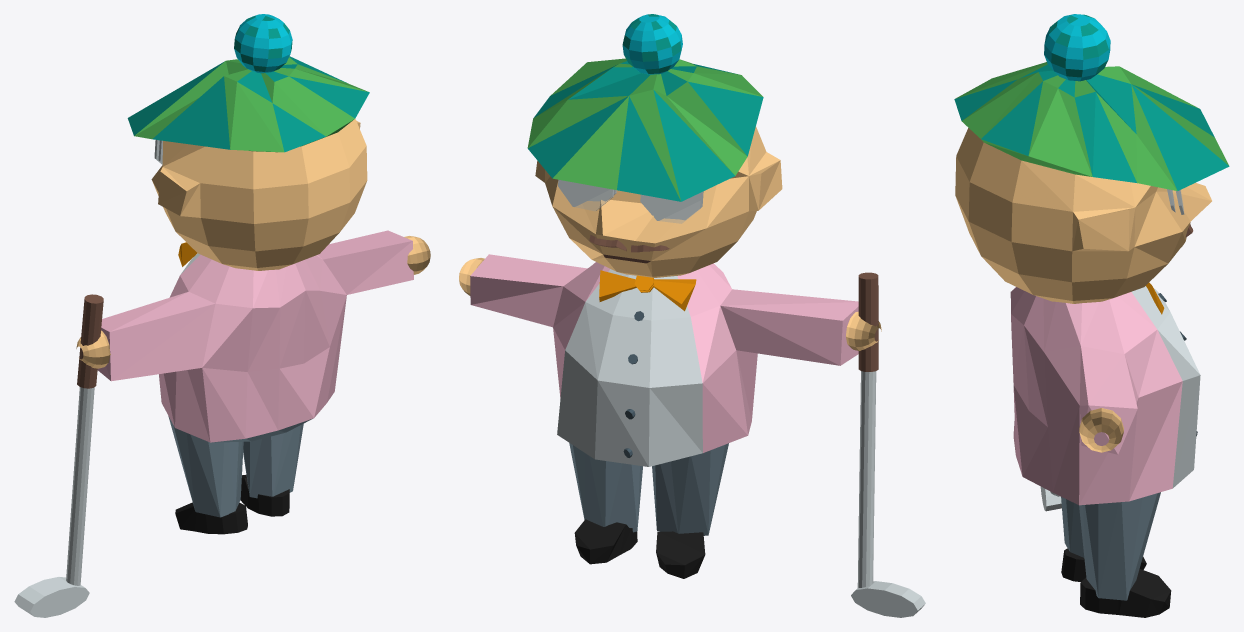
Rendered from scene_6GF6BtmcLV.glb.
3 views of the same model, side by side, from view 1: azimuth 30°, elevation 25°; view 2: azimuth 150°, elevation 25°; view 3: azimuth 270°, elevation 25° (orthographic). The views are drawn at different scales.
Parts seen in each view (by area): view 1: group190844436, group446509500, group1160583200, group442862538, group1689992538, group734745057, group1447891232, group1092781663, group1006151991, group872511750, group1239471568, group1744755058; view 2: group446509500, group190844436, group1160583200, group442862538, group1689992538, group734745057, group872511750, group1092781663, group1447891232, group1006151991, group711177490, group1901949576 (+3 smaller); view 3: group190844436, group446509500, group442862538, group734745057, group872511750, group1744755058, group1160583200, group1092781663.
Part boxes in pixels (x1,y1,x2,y2): group190844436: (127, 56, 369, 270); group446509500: (97, 230, 413, 442); group1160583200: (168, 416, 243, 517); group442862538: (243, 424, 303, 498); group1689992538: (66, 387, 94, 585); group734745057: (234, 14, 292, 73); group1447891232: (14, 577, 89, 617); group1092781663: (175, 502, 247, 534); group1006151991: (77, 294, 103, 388); group872511750: (240, 475, 289, 516); group1239471568: (76, 330, 110, 368); group1744755058: (404, 236, 430, 274); group446509500: (470, 254, 858, 466); group190844436: (527, 58, 782, 277); group1160583200: (652, 443, 728, 535); group442862538: (569, 443, 642, 532); group1689992538: (857, 371, 876, 587); group734745057: (622, 14, 682, 74); group872511750: (574, 519, 637, 564); group1092781663: (656, 531, 705, 578); group1447891232: (851, 581, 925, 617); group1006151991: (858, 272, 878, 371); group711177490: (640, 192, 701, 223); group1901949576: (558, 179, 613, 210); group190844436: (954, 62, 1229, 303); group446509500: (1010, 286, 1200, 505); group442862538: (1079, 492, 1160, 600); group734745057: (1044, 14, 1110, 81); group872511750: (1080, 569, 1171, 617); group1744755058: (1079, 408, 1123, 452); group1160583200: (1061, 497, 1084, 557); group1092781663: (1061, 548, 1146, 581).
Bounding box in the file's own units: 0.9936 × 1.18 × 0.4841.
